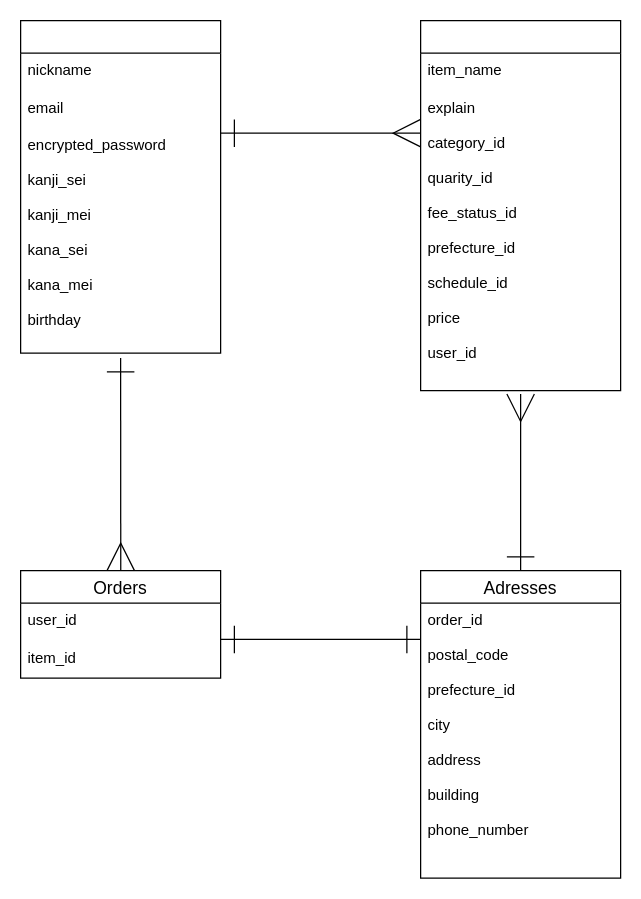
This 641x899 diagram has some shape labels left out. Here are the shapes that lost their labels. From the top down, the box of each, then its label:
(19, 19, 221, 353): User
(419, 19, 621, 391): Items
